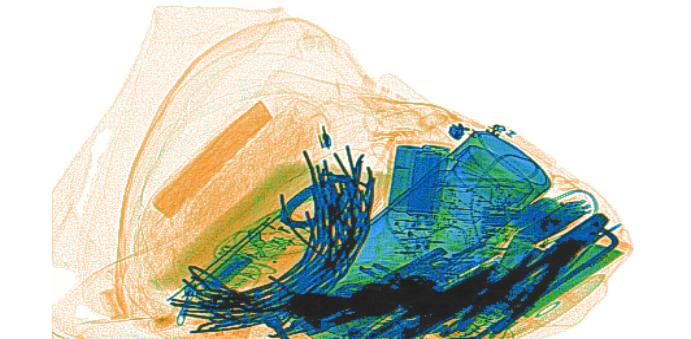battery: (387, 140, 452, 221), (507, 194, 586, 243)
